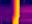Hotspot: (12, 0, 20, 23)
